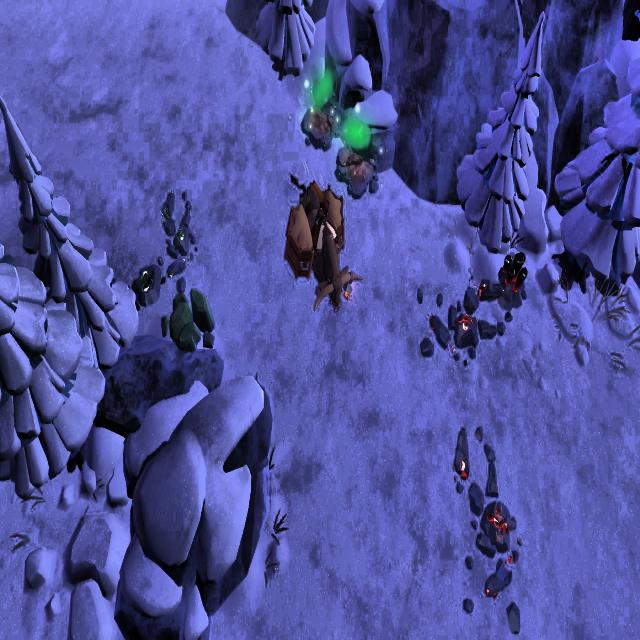ore_t5: (500, 247, 528, 292)
rock_t3: (164, 280, 221, 357)
